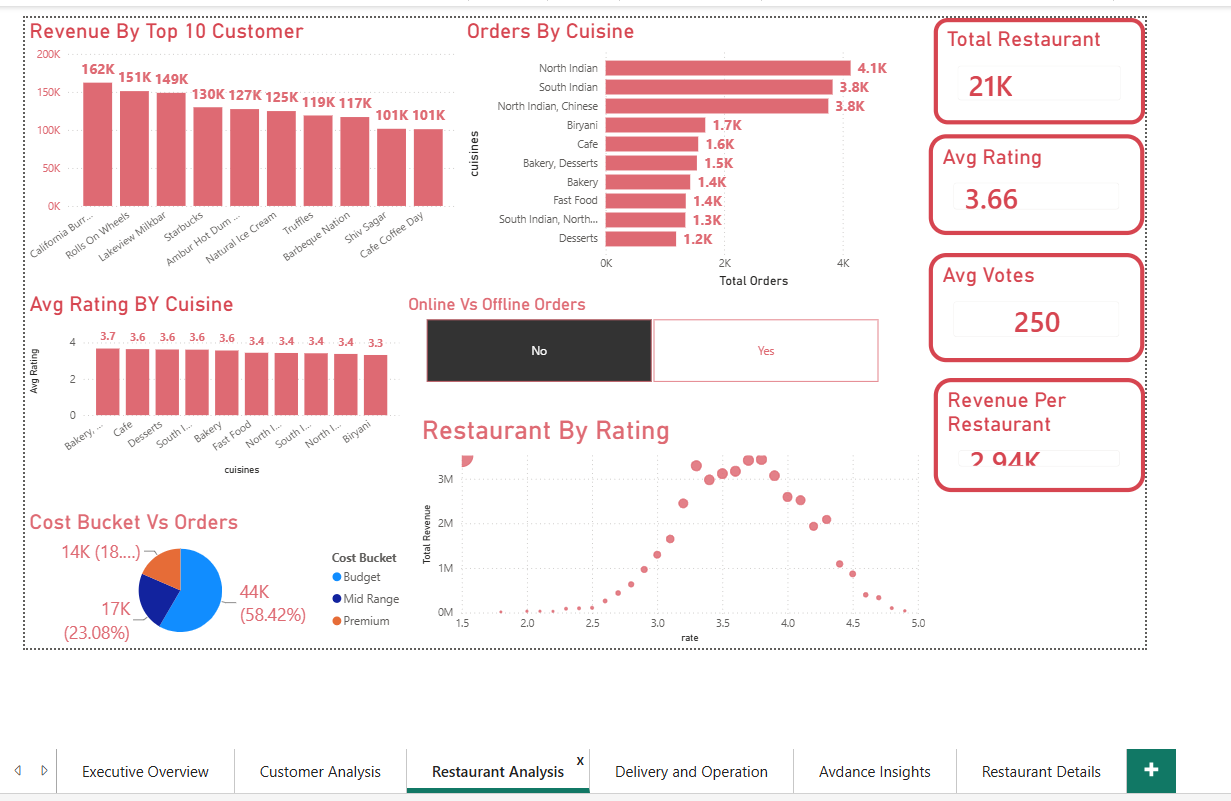

The page's visual inventory and layout, read from the dashboard file:
{"tool":"powerbi","page":{"name":"Restaurant Analysis","canvas":[1280,720],"ordinal":2},"visuals":[{"type":"cardVisual","title":"Total Restaurant","fields":{"Data":["Orders.Total Restaurants"]},"box":[1038.3,0,241.7,121.7],"z":0},{"type":"cardVisual","title":"Avg Votes","fields":{"Data":["Orders.Avg Votes"]},"box":[1033.3,268.3,246.7,125],"z":1000},{"type":"cardVisual","title":"Avg Rating","fields":{"Data":["Orders.Avg Rating"]},"box":[1033.3,133.3,246.7,115],"z":2000},{"type":"cardVisual","title":"Revenue Per Restaurant","fields":{"Data":["Orders.Revenue per Restaurant"]},"box":[1038.3,411.7,241.7,130],"z":3000},{"type":"columnChart","title":"Revenue By Top 10 Customer","fields":{"Category":["Restaurant.name"],"Y":["Orders.Total Revenue"]},"box":[0,0,500,300],"z":4000},{"type":"columnChart","title":"Avg Rating BY Cuisine","fields":{"Category":["Restaurant.cuisines"],"Y":["Orders.Avg Rating"]},"box":[0,313.3,433.3,215],"z":5000},{"type":"barChart","title":"Orders By Cuisine","fields":{"Y":["Orders.Total Orders"],"Category":["Restaurant.cuisines"]},"box":[499.8,0,514.4,313],"z":6000},{"type":"scatterChart","title":"Restaurant By Rating","fields":{"Y":["Orders.Total Revenue"],"X":["Restaurant.rate"],"Size":["Orders.Total Orders"]},"box":[448.3,453.3,585,266.7],"z":7000},{"type":"pieChart","title":"Cost Bucket Vs Orders","fields":{"Category":["Restaurant.Cost Bucket"],"Y":["Orders.Total Orders"]},"box":[0,561.7,447.6,158.6],"z":8000},{"type":"slicer","title":"Online Vs Offline Orders","fields":{"Values":["Restaurant.online orderNew"]},"box":[433.3,315,566.7,106.7],"z":9000}]}

Visuals, with their boxes on the page's 1280x720 design canvas (x1, y1, x2, y2). These are canvas units, not pixel positions in the 1231x801 screenshot, which may show the page scaled, cropped or inside an application window:
"Total Restaurant" cardVisual: 1038 0 1280 122
"Avg Votes" cardVisual: 1033 268 1280 393
"Avg Rating" cardVisual: 1033 133 1280 248
"Revenue Per Restaurant" cardVisual: 1038 412 1280 542
"Revenue By Top 10 Customer" columnChart: 0 0 500 300
"Avg Rating BY Cuisine" columnChart: 0 313 433 528
"Orders By Cuisine" barChart: 500 0 1014 313
"Restaurant By Rating" scatterChart: 448 453 1033 720
"Cost Bucket Vs Orders" pieChart: 0 562 448 720
"Online Vs Offline Orders" slicer: 433 315 1000 422
